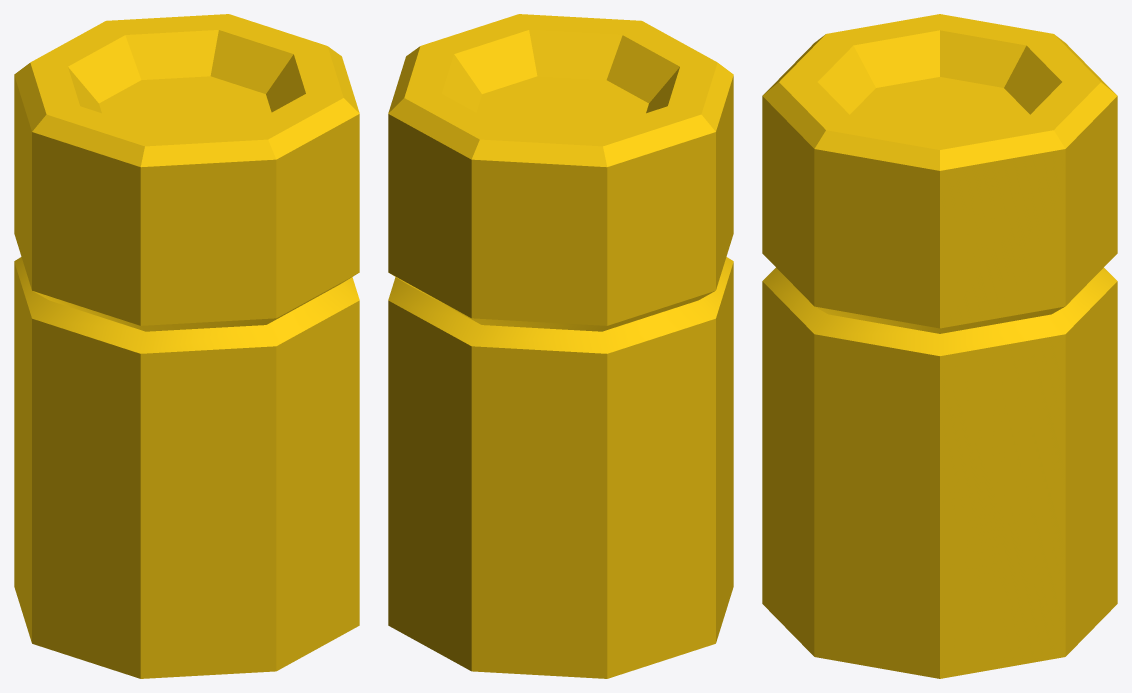
File: Sprinkler.fbx
The picture shows the model from 3 angles, left to right: view 1: azimuth 30°, elevation 25°; view 2: azimuth 150°, elevation 25°; view 3: azimuth 270°, elevation 25°; orthographic projection.
Visible parts, largest first — view 1: Sprinkler_LOD0; view 2: Sprinkler_LOD0; view 3: Sprinkler_LOD0.
Boxes of the visible parts, <box> form: Sprinkler_LOD0: <box>14,14,359,678</box>; Sprinkler_LOD0: <box>388,14,733,678</box>; Sprinkler_LOD0: <box>762,14,1117,678</box>.
Size of what is drawn, in the model's own units: 244 by 396 by 244.
